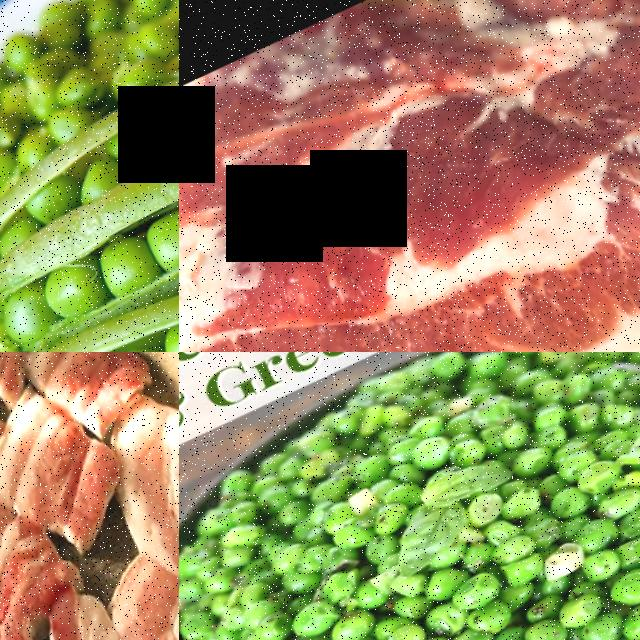peas: (179, 352, 640, 640), (0, 79, 179, 345), (0, 0, 179, 244), (0, 0, 179, 169), (18, 192, 179, 352)
pork belly: (179, 0, 640, 352), (0, 367, 141, 574), (0, 473, 93, 640), (16, 352, 164, 439)
